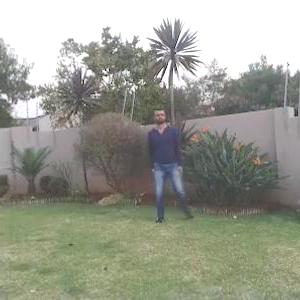follow: (148, 102, 183, 221)
